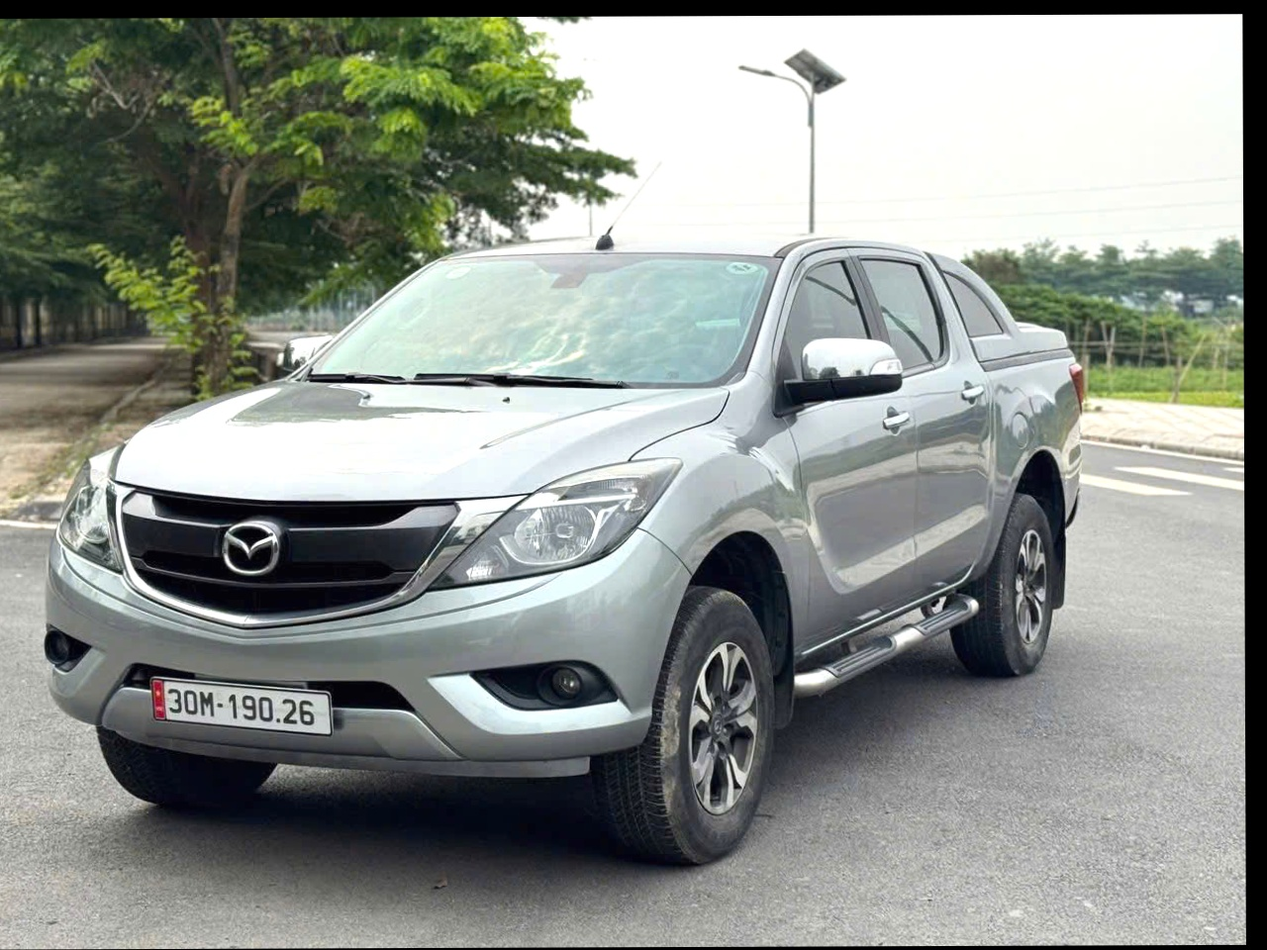Bien-so: (162, 677, 333, 734)
